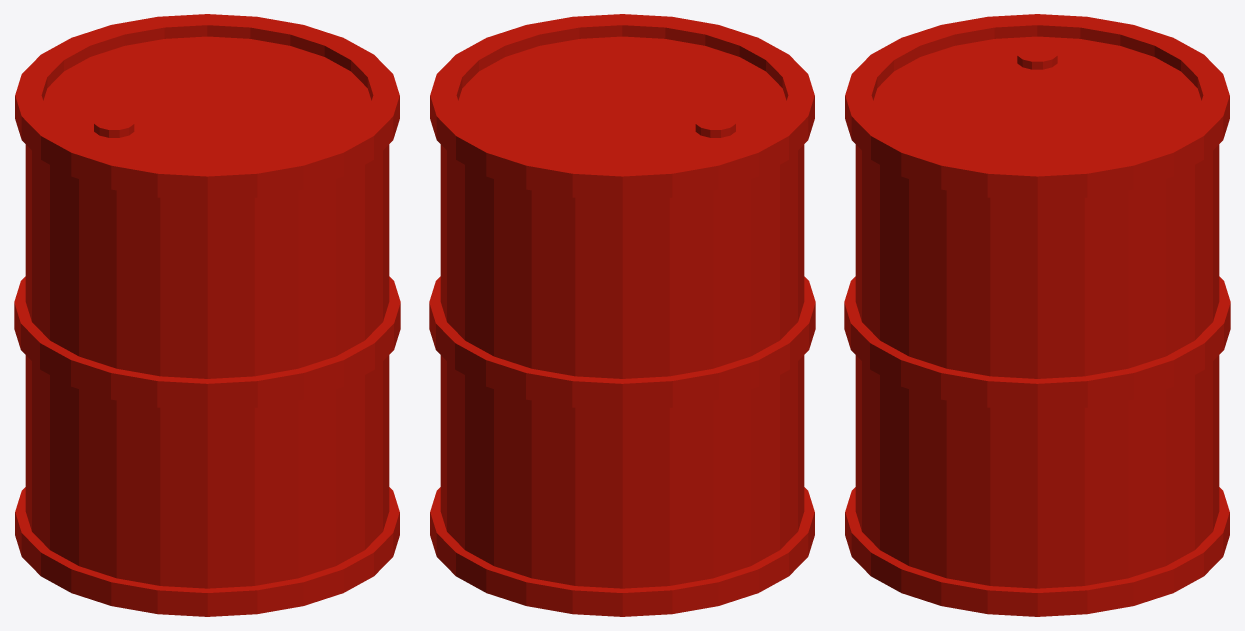
File: FBX_Barrel.fbx
The picture shows the model from 3 angles, left to right: view 1: azimuth 30°, elevation 25°; view 2: azimuth 150°, elevation 25°; view 3: azimuth 270°, elevation 25°; orthographic projection.
Visible parts, largest first — view 1: Barrel; view 2: Barrel; view 3: Barrel.
Part boxes in pixels (x1,y1,x2,y2): Barrel: (14, 14, 400, 616); Barrel: (429, 14, 815, 616); Barrel: (844, 14, 1230, 616).
Size of the model in its own units: 1.28 by 1.6 by 1.28.
